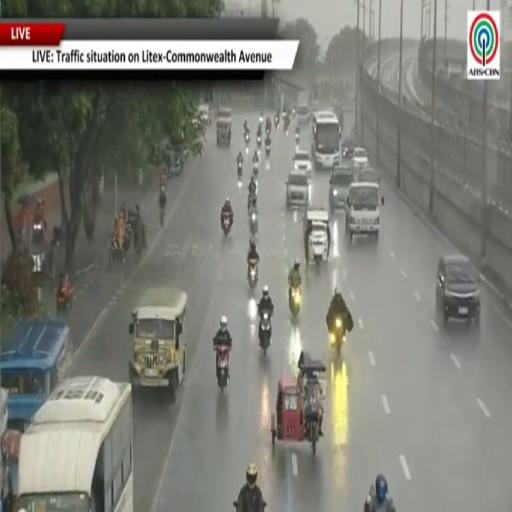bus: (18, 377, 133, 511), (312, 111, 341, 168)
car: (436, 254, 480, 324), (346, 182, 384, 242), (329, 165, 353, 212), (286, 169, 308, 207), (293, 150, 311, 179), (355, 166, 380, 184), (352, 148, 368, 174), (342, 139, 355, 163), (198, 104, 211, 124)
jeepney: (0, 318, 71, 430), (129, 287, 187, 392), (304, 208, 329, 263), (217, 107, 232, 146)
motorcycle: (214, 346, 230, 393), (56, 281, 74, 314), (330, 317, 345, 356), (259, 311, 271, 355), (134, 219, 146, 255), (109, 237, 124, 261), (289, 286, 301, 316), (32, 250, 45, 275), (32, 221, 44, 247), (123, 222, 133, 253), (248, 264, 258, 289), (248, 192, 257, 215), (222, 214, 231, 236), (250, 213, 258, 237), (248, 202, 257, 218), (159, 207, 165, 227), (283, 118, 290, 133), (237, 162, 242, 180), (253, 163, 258, 179), (257, 132, 262, 147), (245, 131, 250, 145), (265, 144, 270, 157), (274, 115, 279, 128), (266, 125, 270, 137), (295, 133, 299, 145), (233, 501, 238, 510), (292, 108, 296, 118), (259, 116, 263, 126)
tricycle: (271, 362, 325, 454)
truck: (296, 91, 310, 123)
